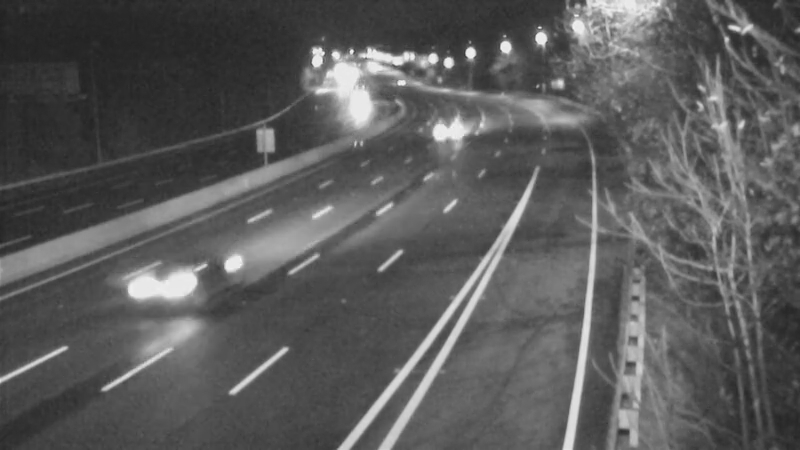vehicle: (124, 248, 204, 328), (374, 58, 424, 108), (421, 105, 471, 155), (328, 87, 378, 137)
